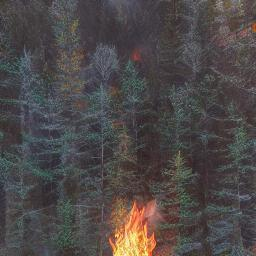Small fire: (104, 198, 162, 256), (127, 46, 146, 67)
